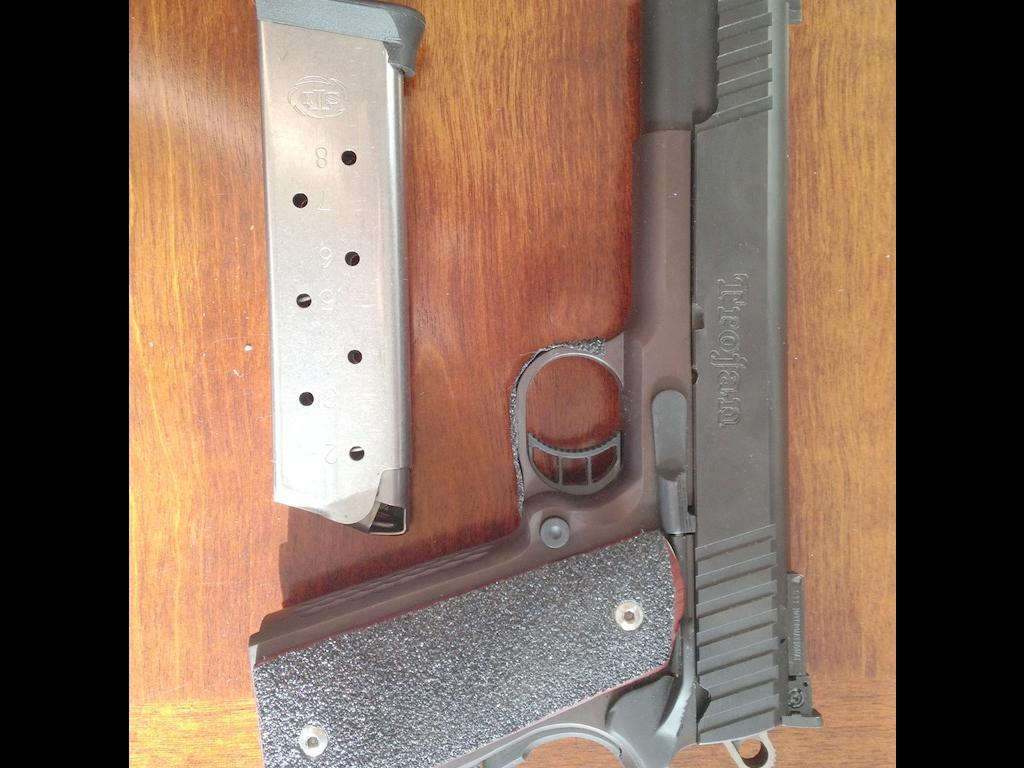gun: (240, 0, 803, 768)
